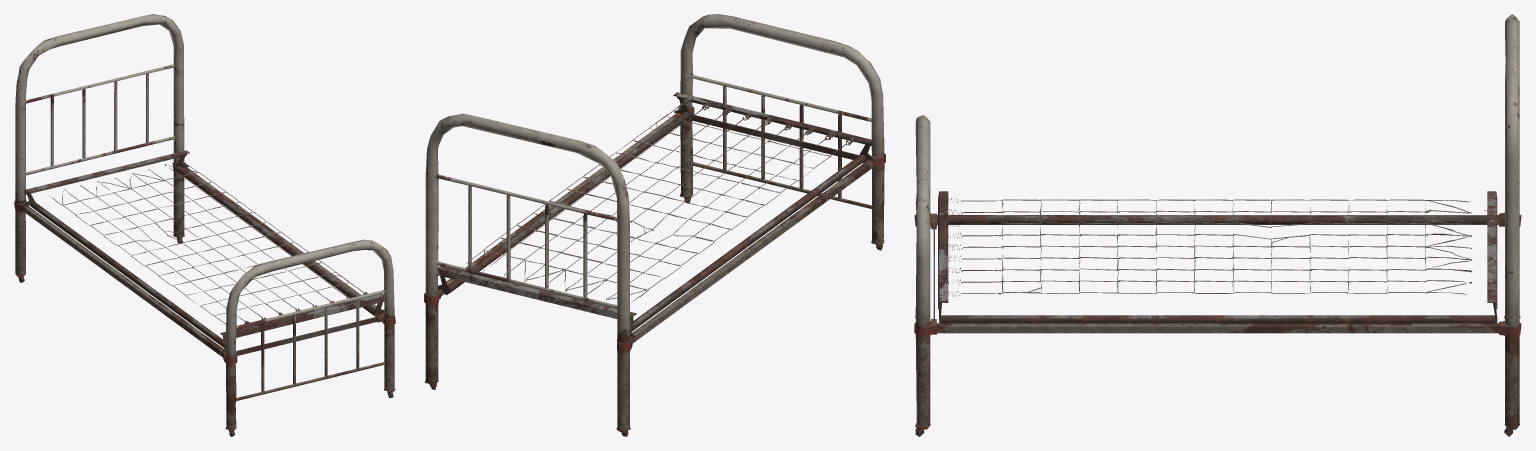
The model's file is old_bed_frame_lod2.glb.
3 views of the same model, side by side, from view 1: azimuth 30°, elevation 25°; view 2: azimuth 150°, elevation 25°; view 3: azimuth 270°, elevation 25° (orthographic). The views are drawn at different scales.
Parts seen in each view (by area): view 1: old_bed_frame; view 2: old_bed_frame; view 3: old_bed_frame.
Boxes of the visible parts, <box> form: old_bed_frame: <box>14,14,395,436</box>; old_bed_frame: <box>424,14,885,436</box>; old_bed_frame: <box>914,14,1521,436</box>.
Bounding box in the file's own units: 0.9046 × 1.2 × 2.
Materials: 1 (1 with a texture image).
